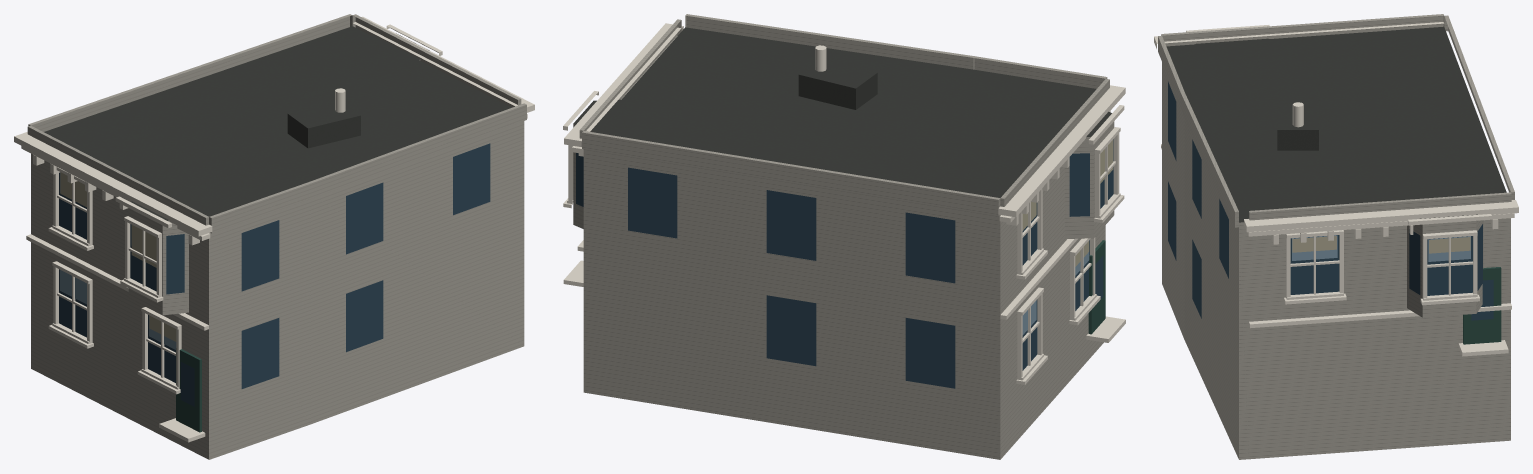
3 views of the same model, side by side, from view 1: azimuth 30°, elevation 25°; view 2: azimuth 150°, elevation 25°; view 3: azimuth 270°, elevation 25° (orthographic). The views are drawn at different scales.
Visible parts, largest first — view 1: Footprint 0 / surface 2, Footprint 0 / surface 1, Facade bay volumes, Inset glazing, Cornices and window frames, Interior blind variation, Storefronts and doors, Inferred rooftop service enclosure / surface 5, Inferred rooftop service enclosure / surface 3, Sky reflection panels; view 2: Footprint 0 / surface 2, Footprint 0 / surface 1, Inset glazing, Facade bay volumes, Cornices and window frames, Inferred rooftop service enclosure / surface 6, Inferred rooftop service enclosure / surface 3, Storefronts and doors, Interior blind variation; view 3: Footprint 0 / surface 2, Footprint 0 / surface 1, Facade bay volumes, Cornices and window frames, Inset glazing, Storefronts and doors, Interior blind variation, Sky reflection panels, Inferred rooftop service enclosure / surface 1, Inferred rooftop service enclosure / surface 3.
Part boxes in pixels (x1=…): Footprint 0 / surface 2: x1=31, y1=121, x2=524, y2=459; Footprint 0 / surface 1: x1=44, y1=26, x2=511, y2=216; Facade bay volumes: x1=27, y1=14, x2=526, y2=315; Inset glazing: x1=59, y1=143, x2=490, y2=406; Cornices and window frames: x1=14, y1=16, x2=534, y2=442; Interior blind variation: x1=60, y1=172, x2=176, y2=341; Storefronts and doors: x1=176, y1=348, x2=201, y2=432; Inferred rooftop service enclosure / surface 5: x1=308, y1=115, x2=360, y2=148; Inferred rooftop service enclosure / surface 3: x1=288, y1=102, x2=360, y2=128; Sky reflection panels: x1=60, y1=172, x2=176, y2=349; Footprint 0 / surface 2: x1=583, y1=149, x2=1105, y2=459; Footprint 0 / surface 1: x1=593, y1=27, x2=1096, y2=197; Inset glazing: x1=576, y1=139, x2=1113, y2=388; Facade bay volumes: x1=573, y1=14, x2=1114, y2=238; Cornices and window frames: x1=563, y1=23, x2=1125, y2=384; Inferred rooftop service enclosure / surface 6: x1=798, y1=75, x2=855, y2=109; Inferred rooftop service enclosure / surface 3: x1=799, y1=60, x2=877, y2=88; Storefronts and doors: x1=1088, y1=240, x2=1105, y2=334; Interior blind variation: x1=1022, y1=140, x2=1113, y2=266; Footprint 0 / surface 2: x1=1162, y1=62, x2=1510, y2=459; Footprint 0 / surface 1: x1=1166, y1=26, x2=1506, y2=222; Facade bay volumes: x1=1158, y1=14, x2=1514, y2=317; Cornices and window frames: x1=1154, y1=22, x2=1518, y2=356; Inset glazing: x1=1168, y1=81, x2=1493, y2=320; Storefronts and doors: x1=1463, y1=267, x2=1501, y2=344; Interior blind variation: x1=1292, y1=236, x2=1470, y2=253; Sky reflection panels: x1=1292, y1=235, x2=1470, y2=261; Inferred rooftop service enclosure / surface 1: x1=1277, y1=130, x2=1318, y2=150; Inferred rooftop service enclosure / surface 3: x1=1277, y1=103, x2=1318, y2=129.
Size of the model in its own units: 14.38 by 8.85 by 10.52.
